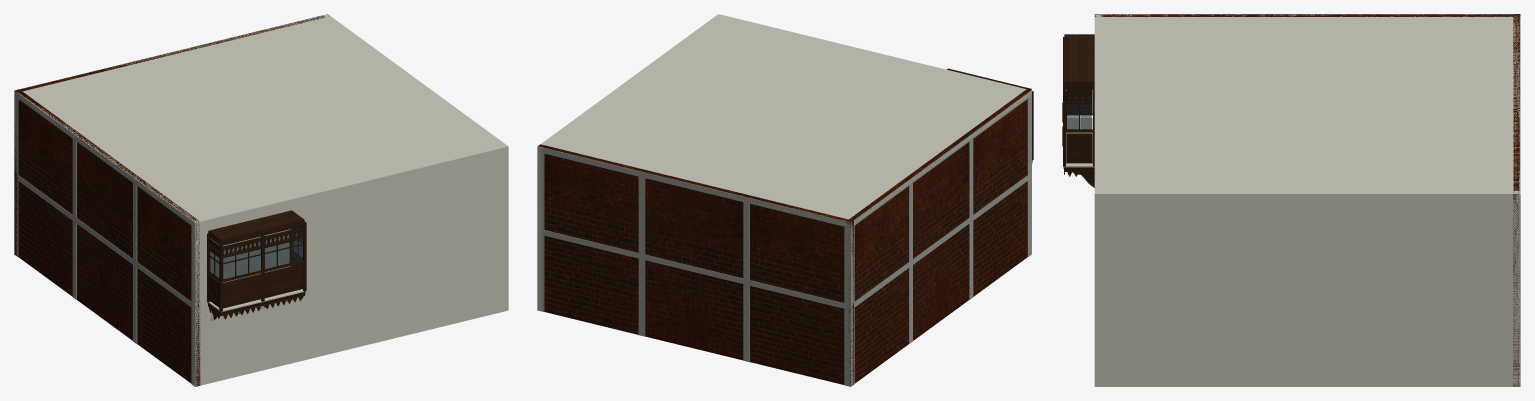
File: building.glb
The picture shows the model from 3 angles, left to right: view 1: azimuth 30°, elevation 25°; view 2: azimuth 150°, elevation 25°; view 3: azimuth 270°, elevation 25°; orthographic projection. The views are drawn at different scales.
Parts seen in each view (by area): view 1: roof/house:0/roof_slab#0001, house:0/edge0/z0/house:0/edge0/z0/wall_0_0, house:0/edge3/z0/house:0/edge3/z0/wall_0_0, house:0/edge2/z0/house:0/edge2/z0/wall_0_0, balcony/sample/balcony_cover#0001, house:0/edge3/z0/house:0/edge3/z0/beam_0_0, house:0/edge1/z0/house:0/edge1/z0/wall_0_0, house:0/edge3/z0/house:0/edge3/z0/beam_1_0, balcony/sample/balcony_panel#0003, balcony/sample/balcony_panel#0002; view 2: roof/house:0/roof_slab#0001, house:0/edge2/z0/house:0/edge2/z0/wall_0_0, house:0/edge3/z0/house:0/edge3/z0/wall_0_0, house:0/edge1/z0/house:0/edge1/z0/wall_0_0, house:0/edge2/z0/house:0/edge2/z0/beam_1_0, house:0/edge2/z0/house:0/edge2/z0/beam_0_0, house:0/edge3/z0/house:0/edge3/z0/beam_0_0, house:0/edge0/z0/house:0/edge0/z0/wall_0_0, house:0/edge3/z0/house:0/edge3/z0/beam_1_0, house:0/edge2/z0/house:0/edge2/z0/column_1_0, house:0/edge2/z0/house:0/edge2/z0/column_2_0, house:0/edge2/z0/house:0/edge2/z0/column_1_1 (+3 smaller); view 3: house:0/edge1/z0/house:0/edge1/z0/wall_0_0, roof/house:0/roof_slab#0001, house:0/edge0/z0/house:0/edge0/z0/wall_0_0, house:0/edge2/z0/house:0/edge2/z0/wall_0_0, balcony/sample/balcony_cover#0001, house:0/edge3/z0/house:0/edge3/z0/wall_0_0, balcony/sample/balcony_panel#0004, balcony/sample/balcony_platform#0001.
Boxes of the visible parts, x1,y1,x2,y2 form: roof/house:0/roof_slab#0001: [15, 14, 508, 226]; house:0/edge0/z0/house:0/edge0/z0/wall_0_0: [192, 144, 508, 386]; house:0/edge3/z0/house:0/edge3/z0/wall_0_0: [17, 89, 200, 386]; house:0/edge2/z0/house:0/edge2/z0/wall_0_0: [14, 15, 324, 255]; balcony/sample/balcony_cover#0001: [208, 210, 304, 242]; house:0/edge3/z0/house:0/edge3/z0/beam_0_0: [15, 174, 194, 308]; house:0/edge1/z0/house:0/edge1/z0/wall_0_0: [323, 14, 508, 311]; house:0/edge3/z0/house:0/edge3/z0/beam_1_0: [14, 91, 195, 227]; balcony/sample/balcony_panel#0003: [264, 263, 303, 297]; balcony/sample/balcony_panel#0002: [223, 273, 261, 308]; roof/house:0/roof_slab#0001: [541, 15, 1031, 226]; house:0/edge2/z0/house:0/edge2/z0/wall_0_0: [538, 144, 853, 384]; house:0/edge3/z0/house:0/edge3/z0/wall_0_0: [845, 89, 1030, 383]; house:0/edge1/z0/house:0/edge1/z0/wall_0_0: [537, 15, 722, 311]; house:0/edge2/z0/house:0/edge2/z0/beam_1_0: [538, 147, 851, 228]; house:0/edge2/z0/house:0/edge2/z0/beam_0_0: [537, 229, 851, 310]; house:0/edge3/z0/house:0/edge3/z0/beam_0_0: [851, 172, 1031, 309]; house:0/edge0/z0/house:0/edge0/z0/wall_0_0: [715, 14, 1031, 253]; house:0/edge3/z0/house:0/edge3/z0/beam_1_0: [850, 90, 1031, 227]; house:0/edge2/z0/house:0/edge2/z0/column_1_0: [844, 309, 851, 386]; house:0/edge2/z0/house:0/edge2/z0/column_2_0: [638, 177, 645, 254]; house:0/edge2/z0/house:0/edge2/z0/column_1_1: [844, 227, 851, 304]; house:0/edge1/z0/house:0/edge1/z0/wall_0_0: [1094, 191, 1520, 386]; roof/house:0/roof_slab#0001: [1094, 14, 1520, 198]; house:0/edge0/z0/house:0/edge0/z0/wall_0_0: [1094, 14, 1101, 386]; house:0/edge2/z0/house:0/edge2/z0/wall_0_0: [1513, 14, 1519, 386]; balcony/sample/balcony_cover#0001: [1064, 34, 1094, 85]; house:0/edge3/z0/house:0/edge3/z0/wall_0_0: [1094, 14, 1520, 16]; balcony/sample/balcony_panel#0004: [1066, 133, 1092, 163]; balcony/sample/balcony_platform#0001: [1064, 118, 1094, 167].
Size of the model in its own units: 12 by 6 by 12.91.
5 materials, 2 textured.
